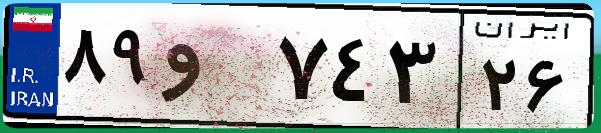2: (475, 38, 525, 113)
3: (385, 28, 445, 110)
4: (330, 28, 385, 110)
6: (525, 38, 570, 115)
7: (270, 28, 330, 110)
8: (57, 26, 110, 100)
9: (110, 28, 158, 98)
و: (158, 20, 270, 120)
